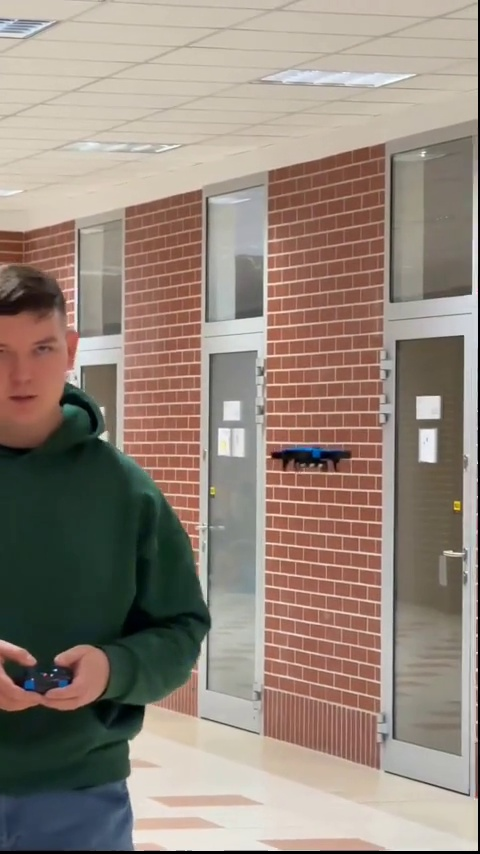drone: (273, 445, 355, 477)
no vest: (0, 252, 214, 852)
